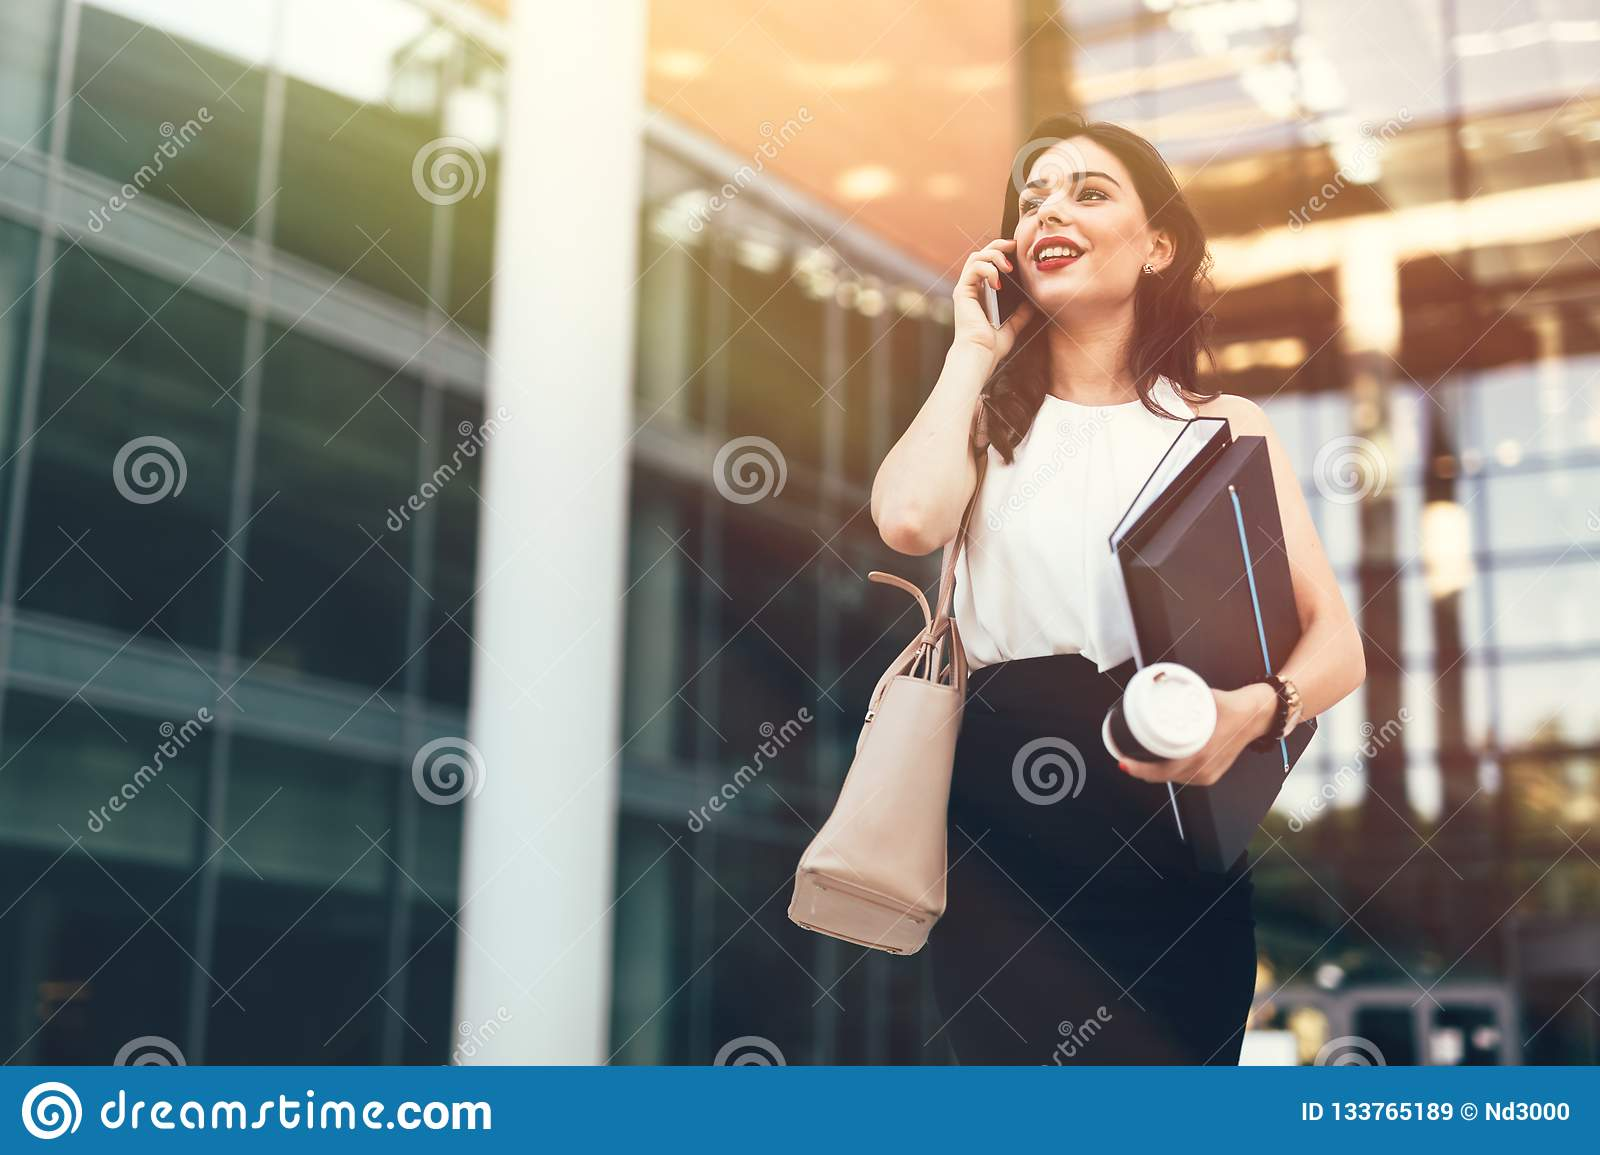phone: (984, 237, 1027, 332)
talk: (948, 166, 1129, 378)
